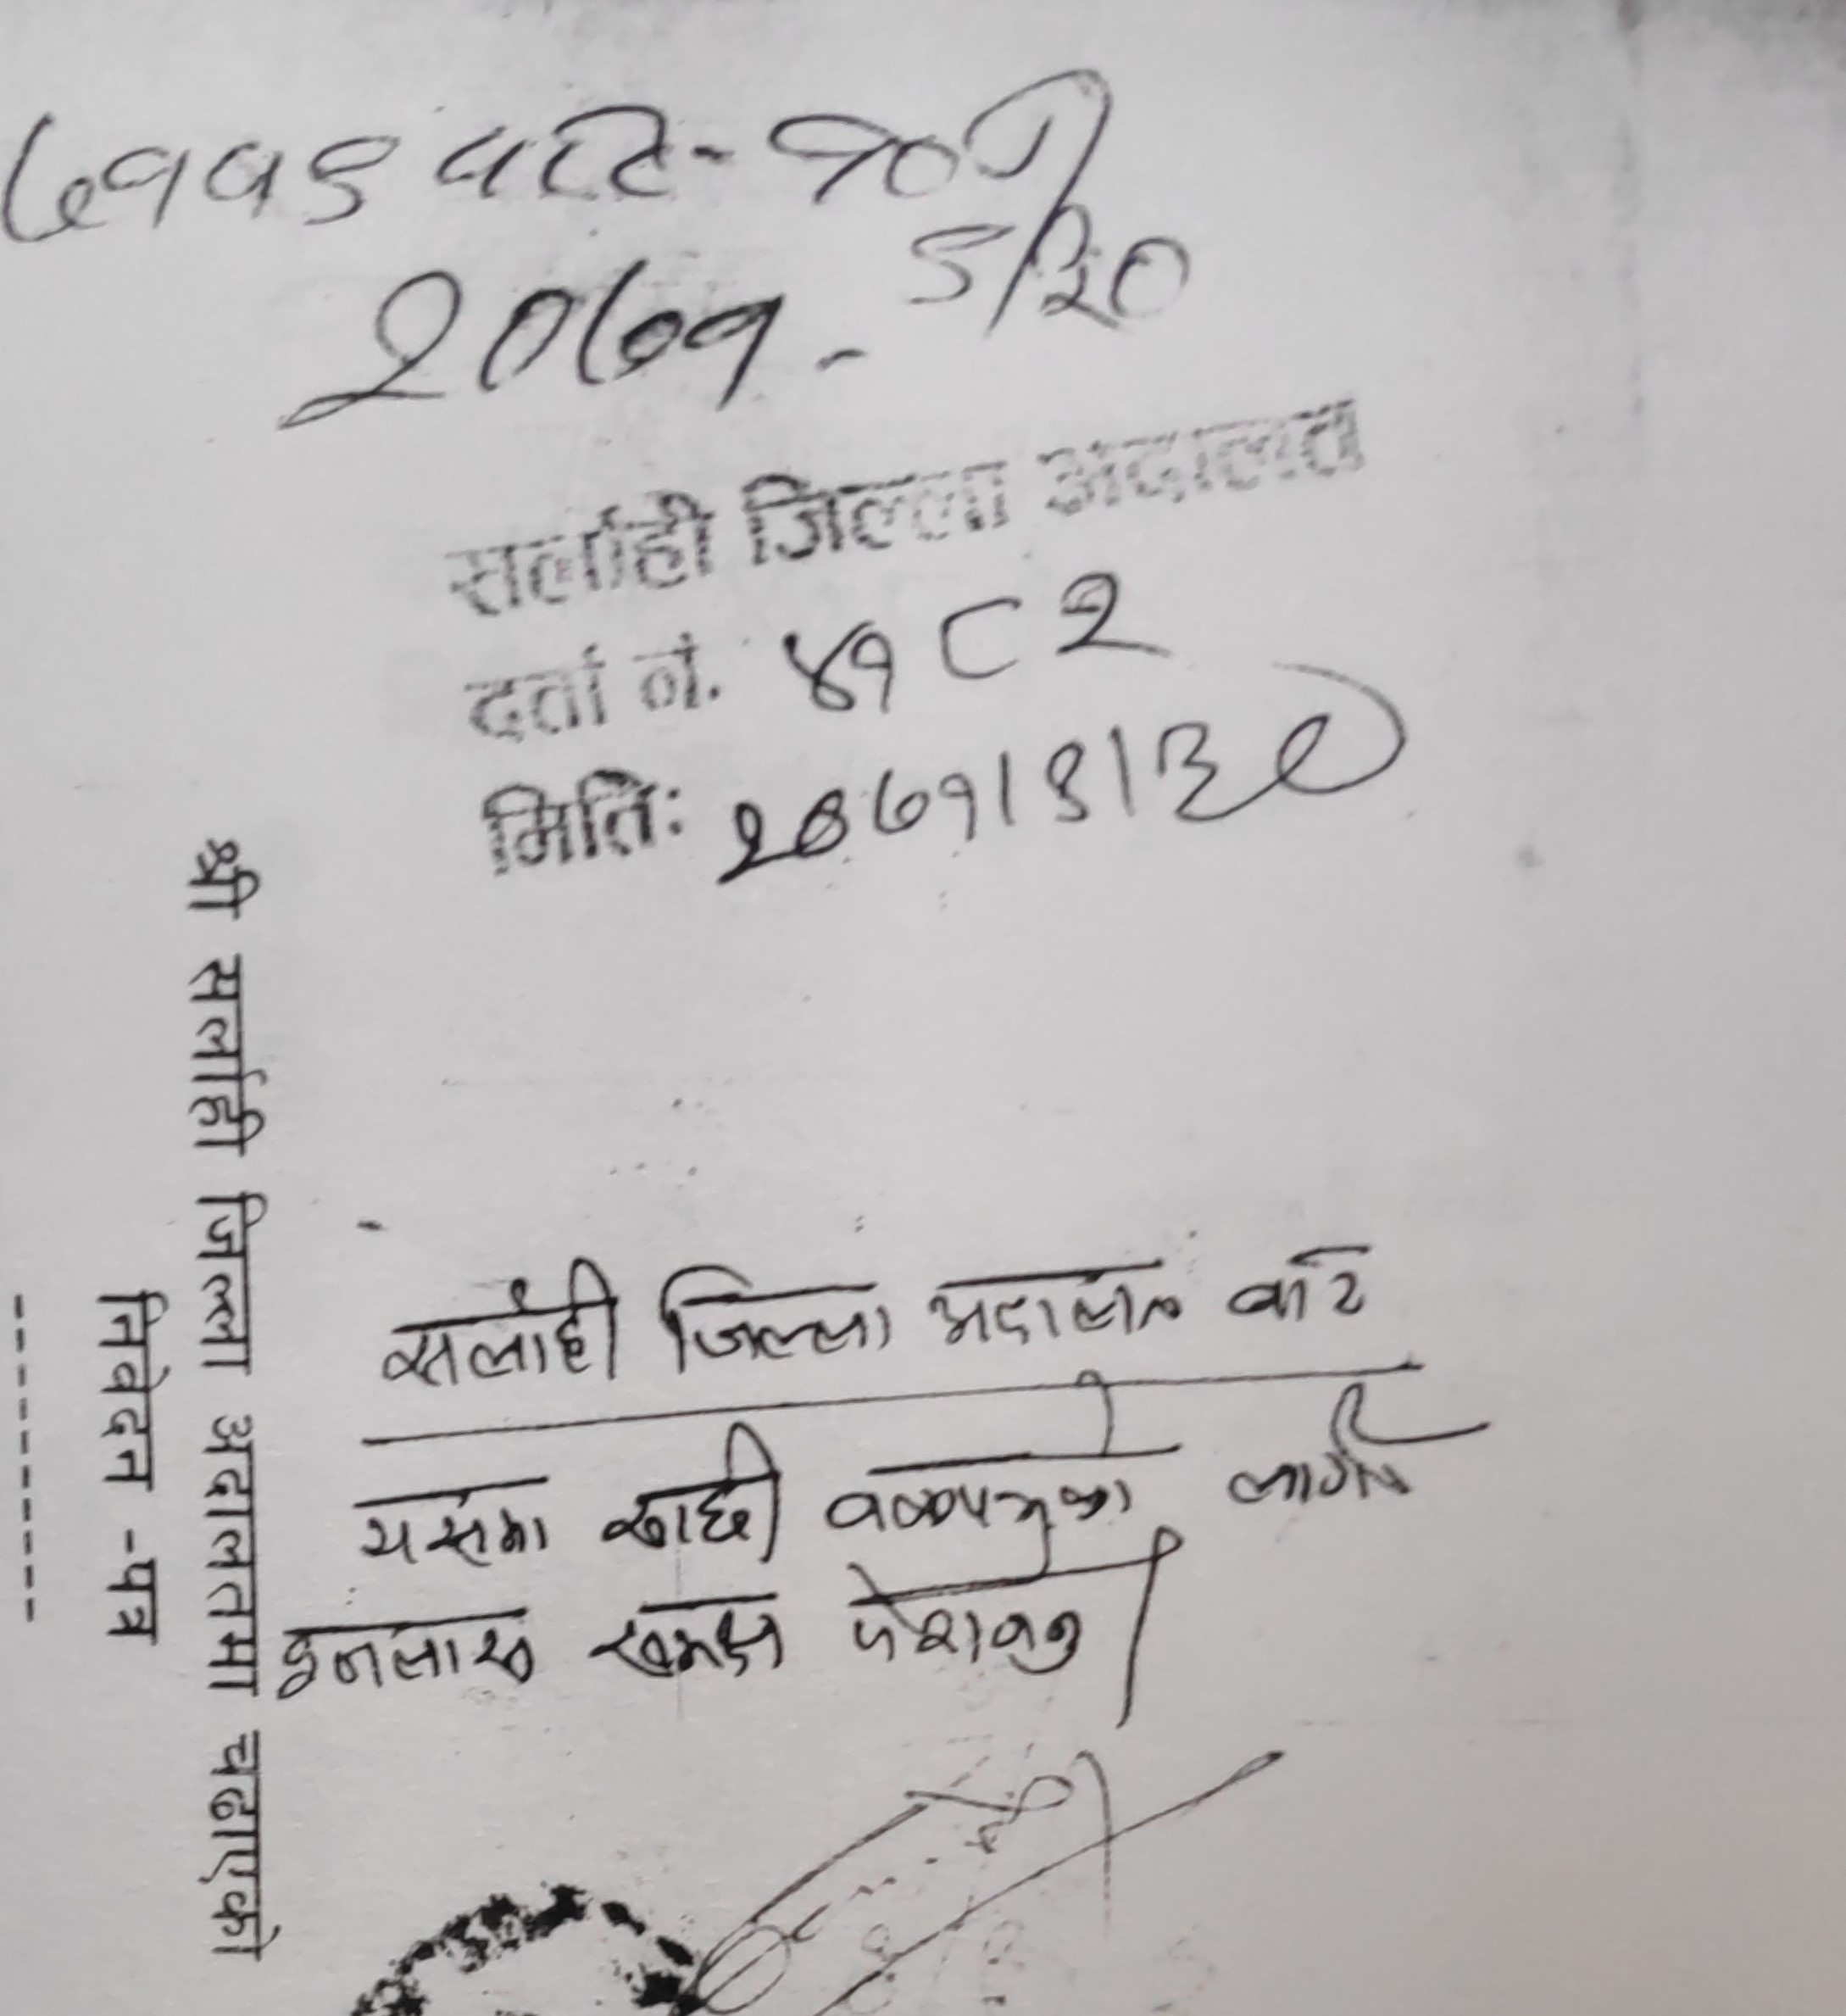text: (715, 720, 1407, 882), (270, 241, 806, 437), (0, 81, 397, 246), (771, 564, 1161, 716), (818, 1389, 1145, 1544), (367, 1250, 636, 1403), (834, 1547, 1107, 1679), (592, 1417, 801, 1577), (1215, 1377, 1435, 1524), (646, 1250, 899, 1372), (912, 1250, 1186, 1359), (270, 1602, 546, 1700), (592, 1580, 806, 1707), (334, 1477, 560, 1577), (1215, 1238, 1393, 1356)
